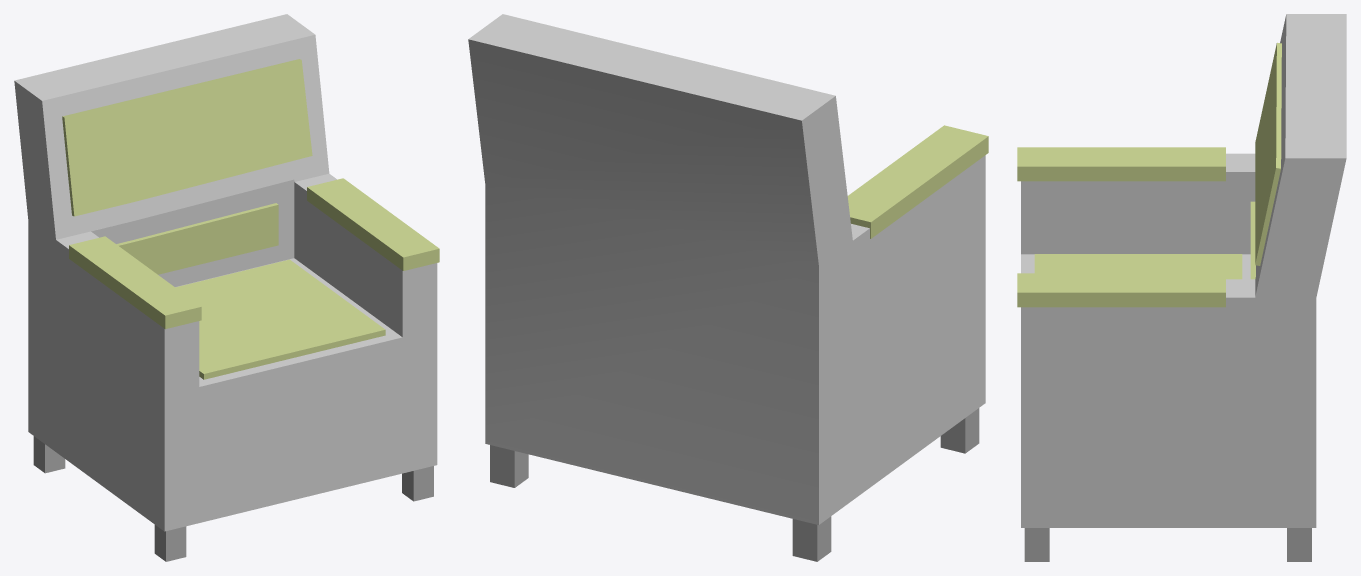
File: chair_1.fbx
3 renders of one model, left to right at view 1: azimuth 30°, elevation 25°; view 2: azimuth 150°, elevation 25°; view 3: azimuth 270°, elevation 25°, orthographic. The views are drawn at different scales.
Parts seen in each view (by area): view 1: Cube; view 2: Cube; view 3: Cube.
Boxes of the visible parts, x1,y1,x2,y2 form: Cube: (14,14,439,561); Cube: (468,14,988,561); Cube: (1017,14,1346,561).
Size of the model in its own units: 29.62 by 38.52 by 28.4.
